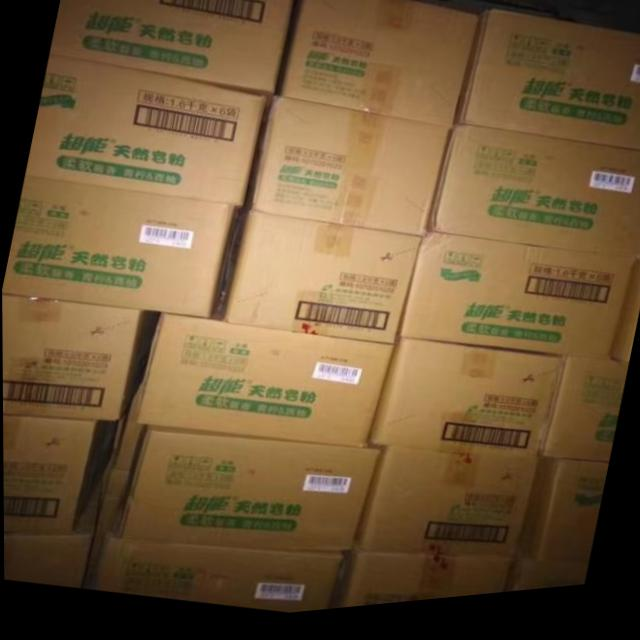box: (24, 57, 267, 211), (128, 318, 396, 453), (2, 178, 244, 322), (113, 429, 383, 558), (396, 239, 638, 372), (426, 131, 640, 271), (251, 100, 453, 245), (218, 215, 419, 350), (278, 0, 480, 134), (457, 18, 640, 164), (49, 0, 295, 100), (368, 344, 562, 469), (354, 453, 535, 567), (93, 536, 343, 617), (3, 423, 116, 586), (2, 296, 144, 422), (334, 547, 510, 615), (2, 414, 96, 533), (515, 465, 606, 577), (536, 367, 627, 473), (506, 567, 585, 602)
